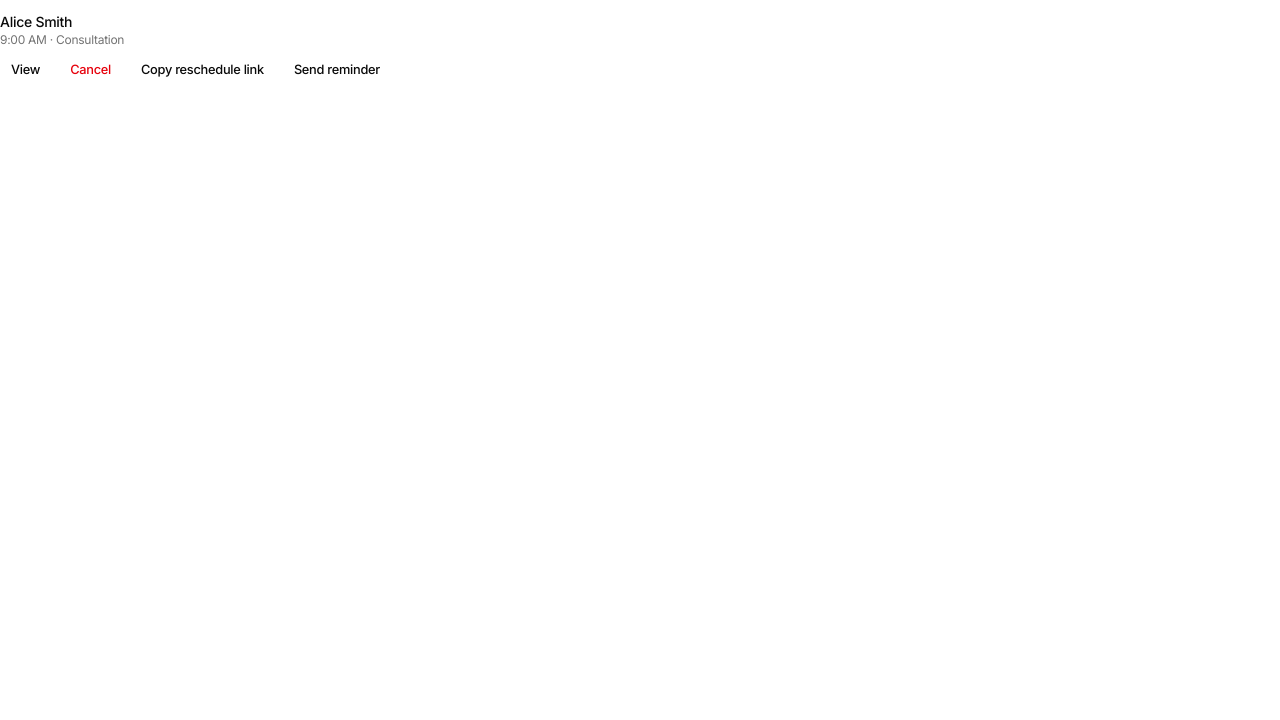
Scenario: DayDetailRow › (e) clipboard failure: shows inline readOnly fallback input
This screenshot has width=1280, height=720.
Click the button "Copy reschedule link" at (202, 70), box [130,56,275,84]
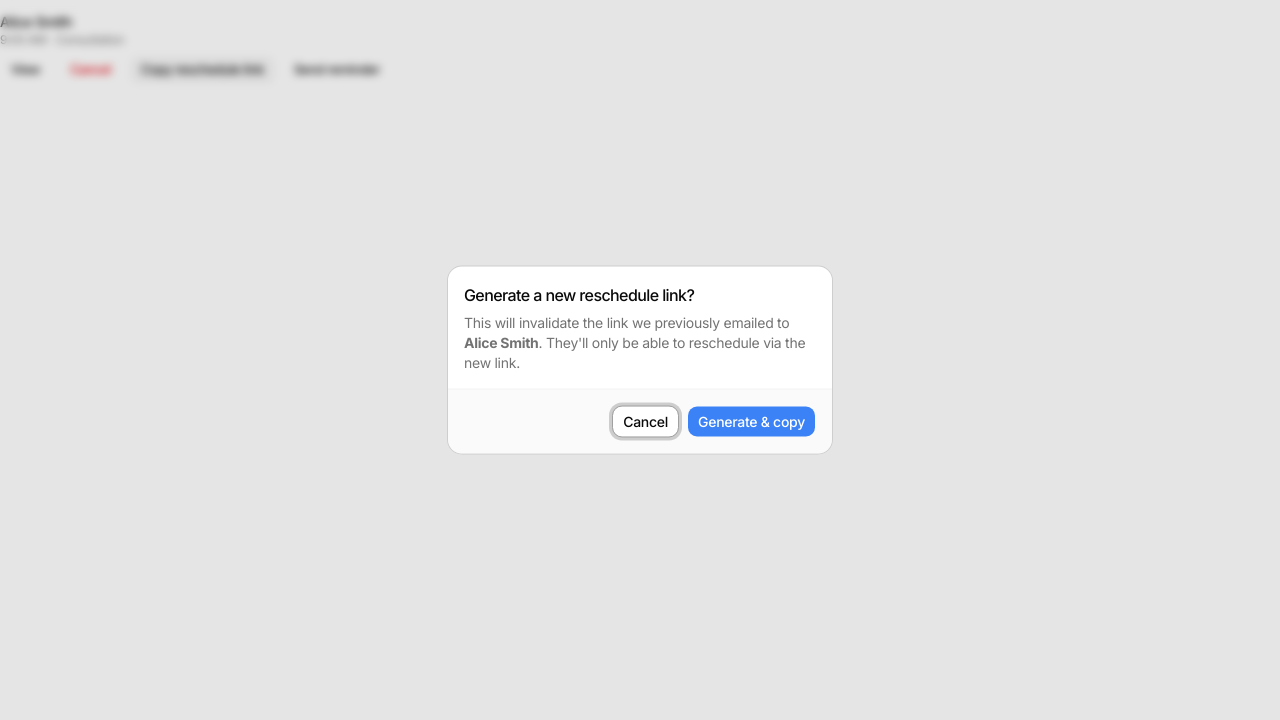
Check: the dialog is shown, box [448,266,832,454]
Click the button "Generate & copy" at (752, 422), box [687,406,816,438]
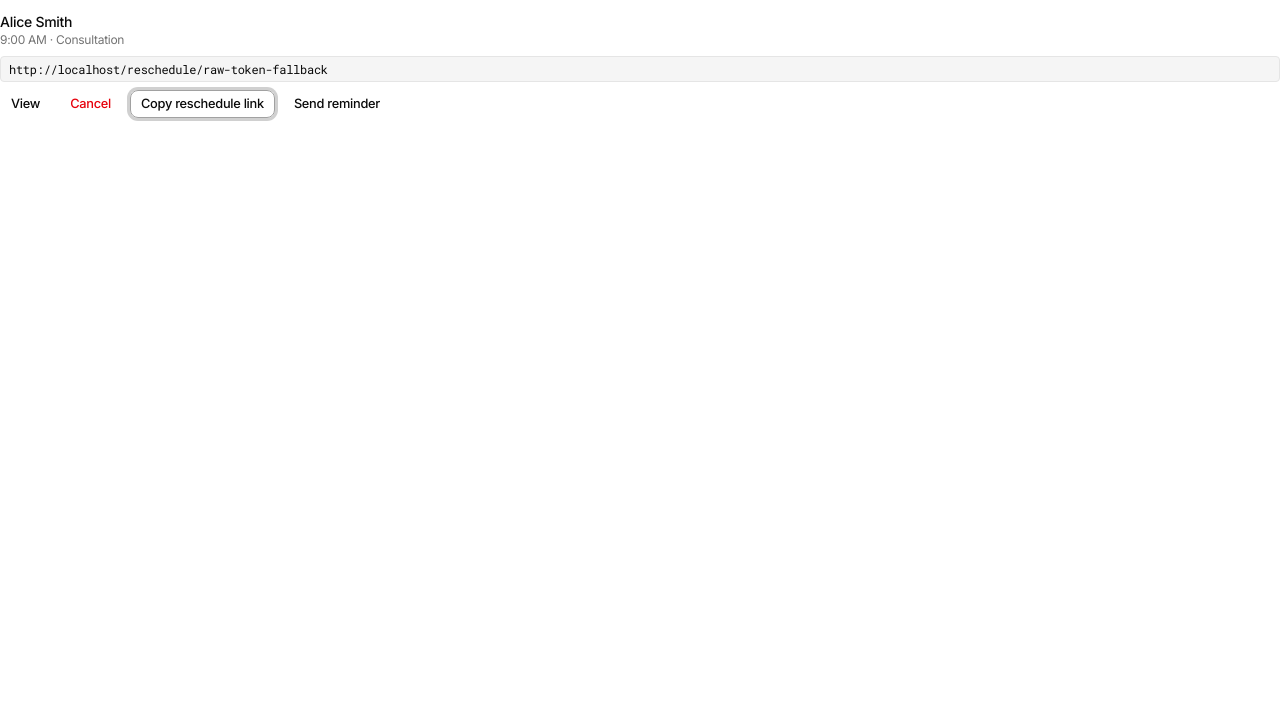
Check: the field named "reschedule link" is shown, box [0,56,1279,82]
